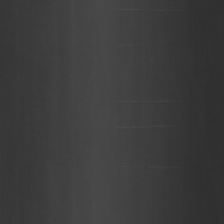waist_folding: (119, 28, 179, 196)
